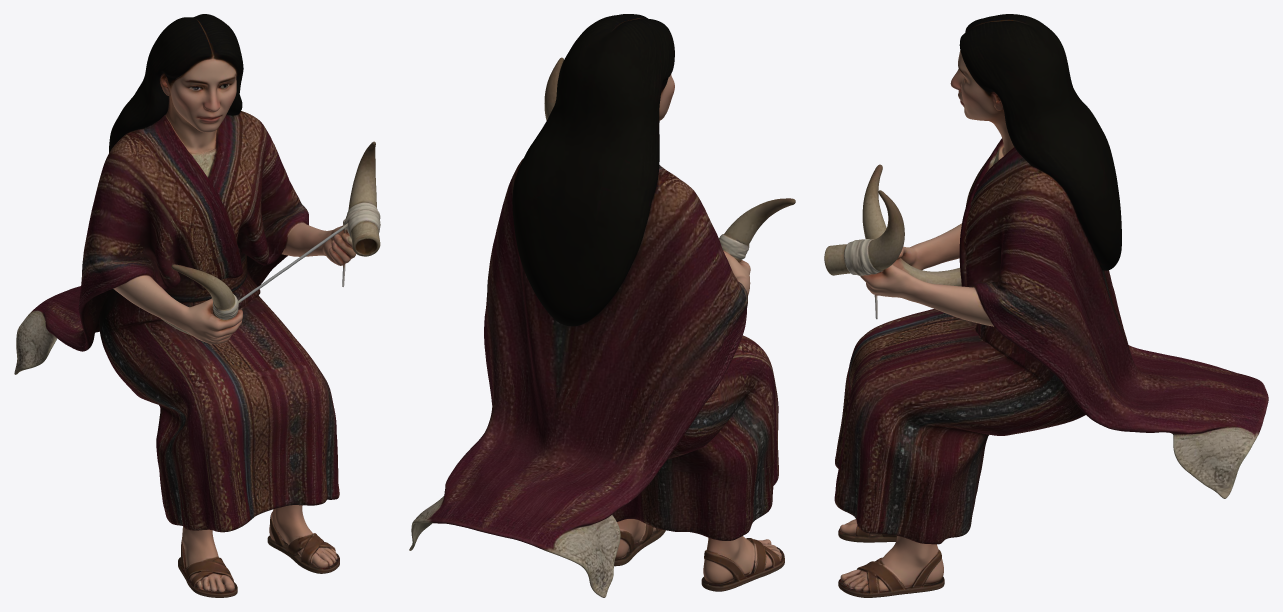
The model's file is 51-la-aparición-de-santa-bárbara-en-el-alto-optimized.glb.
3 views of the same model, side by side, from view 1: azimuth 30°, elevation 25°; view 2: azimuth 150°, elevation 25°; view 3: azimuth 270°, elevation 25° (orthographic). The views are drawn at different scales.
Visible parts, largest first — view 1: tripo_node_70de145c-1e35-4438-bfe0-d55a1698fb7b; view 2: tripo_node_70de145c-1e35-4438-bfe0-d55a1698fb7b; view 3: tripo_node_70de145c-1e35-4438-bfe0-d55a1698fb7b.
Boxes of the visible parts, <box> form: tripo_node_70de145c-1e35-4438-bfe0-d55a1698fb7b: <box>14,14,380,597</box>; tripo_node_70de145c-1e35-4438-bfe0-d55a1698fb7b: <box>409,14,795,597</box>; tripo_node_70de145c-1e35-4438-bfe0-d55a1698fb7b: <box>824,14,1268,597</box>.
Size of the model in its own units: 0.4704 by 1 by 0.7418.
1 material, 1 textured.
